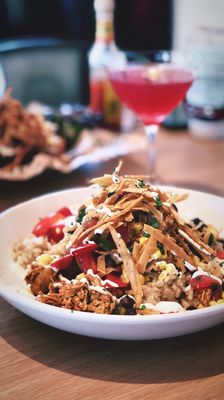sushi: (0, 172, 223, 342)
